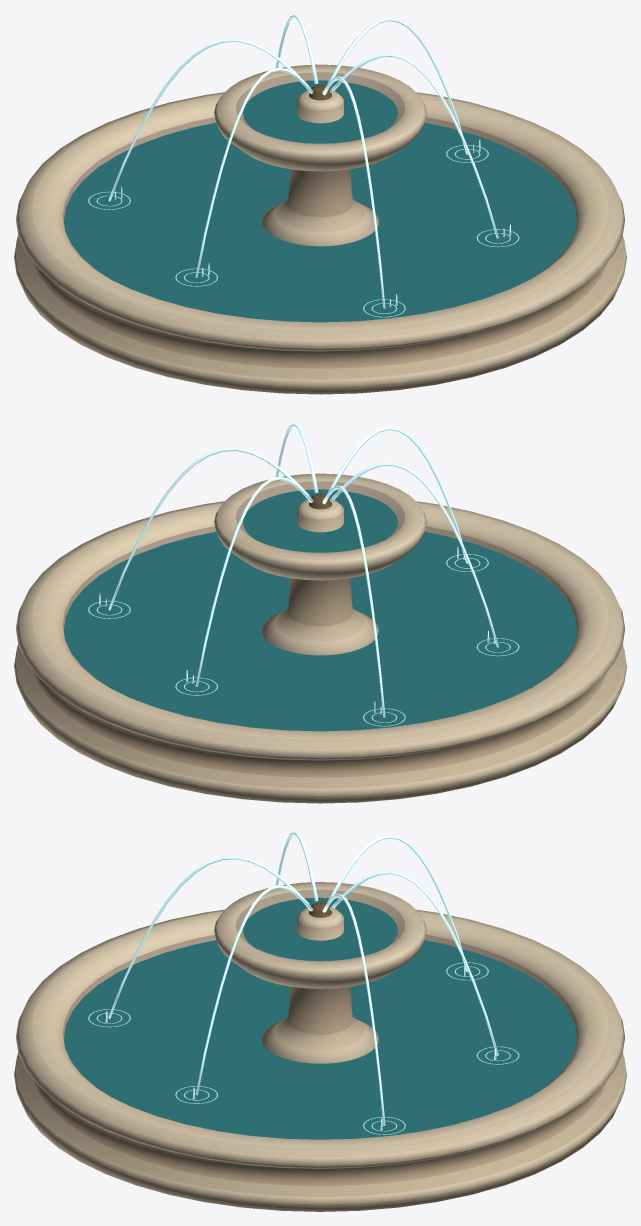
File: old-town-park-fountain.glb
3 renders of one model, top to bottom at view 1: azimuth 30°, elevation 25°; view 2: azimuth 150°, elevation 25°; view 3: azimuth 270°, elevation 25°, orthographic.
Visible parts, largest first — view 1: Upper surface of basin water, Basin • solid, Stem and upper bowl • solid, Upper cup water, Water jets and droplets • visual, Contact ripples • visual; view 2: Upper surface of basin water, Basin • solid, Stem and upper bowl • solid, Upper cup water, Water jets and droplets • visual, Contact ripples • visual; view 3: Upper surface of basin water, Basin • solid, Stem and upper bowl • solid, Upper cup water, Water jets and droplets • visual, Contact ripples • visual.
Part boxes in pixels (x1,y1,x2,y2): Upper surface of basin water: [64, 122, 576, 322]; Basin • solid: [14, 92, 626, 394]; Stem and upper bowl • solid: [214, 64, 426, 246]; Upper cup water: [243, 80, 397, 143]; Water jets and droplets • visual: [108, 14, 511, 308]; Contact ripples • visual: [88, 145, 519, 317]; Upper surface of basin water: [64, 531, 576, 731]; Basin • solid: [14, 501, 626, 803]; Stem and upper bowl • solid: [214, 473, 426, 655]; Upper cup water: [243, 489, 397, 552]; Water jets and droplets • visual: [99, 423, 498, 717]; Contact ripples • visual: [88, 554, 519, 726]; Upper surface of basin water: [64, 940, 576, 1139]; Basin • solid: [14, 909, 626, 1211]; Stem and upper bowl • solid: [214, 882, 426, 1063]; Upper cup water: [243, 897, 397, 961]; Water jets and droplets • visual: [105, 832, 498, 1130]; Contact ripples • visual: [88, 962, 519, 1134].
Bounding box in the file's own units: 3.4 × 1.38 × 3.4.
